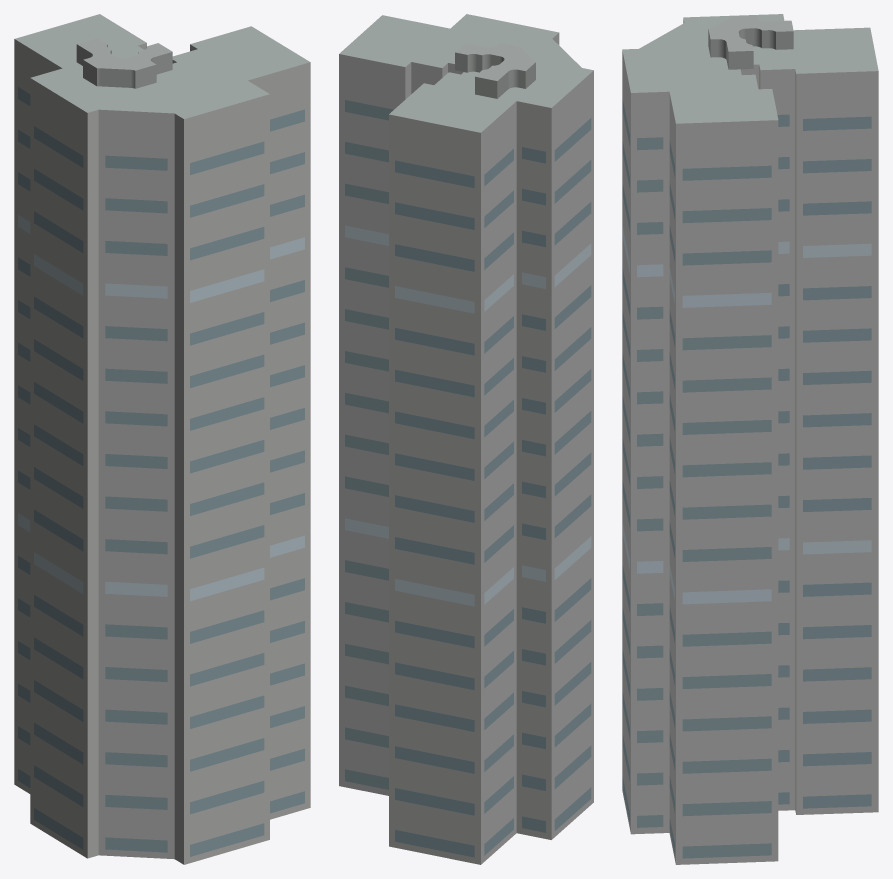
Rendered from fallback-banpo-riche-109.glb.
3 views of the same model, side by side, from view 1: azimuth 30°, elevation 25°; view 2: azimuth 150°, elevation 25°; view 3: azimuth 270°, elevation 25° (orthographic).
Parts seen in each view (by area): view 1: fallback-banpo-riche-109; view 2: fallback-banpo-riche-109; view 3: fallback-banpo-riche-109.
Part boxes in pixels (box(x1,y1,x2,y2)): fallback-banpo-riche-109: box(14, 14, 310, 864); fallback-banpo-riche-109: box(339, 14, 593, 864); fallback-banpo-riche-109: box(622, 14, 878, 864).
Bounding box in the file's own units: 31.32 × 101 × 30.9.
